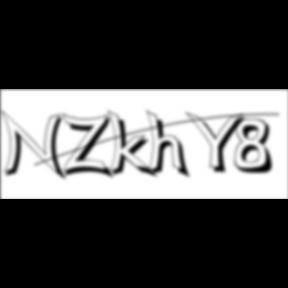8: (234, 117, 280, 176)
N: (0, 109, 70, 183)
Y: (184, 110, 252, 176)
Z: (62, 112, 118, 181)
h: (146, 108, 192, 182)
k: (106, 108, 160, 181)
